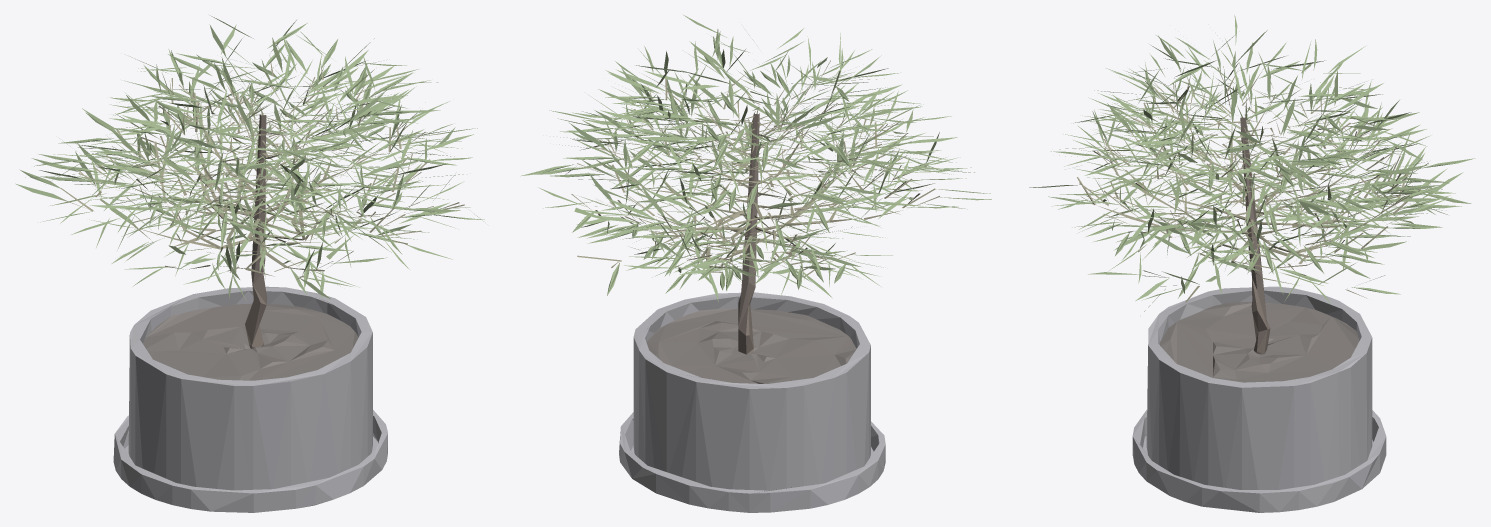
The model's file is sh-bs0-decorative-plant.glb.
The picture shows the model from 3 angles, left to right: view 1: azimuth 30°, elevation 25°; view 2: azimuth 150°, elevation 25°; view 3: azimuth 270°, elevation 25°; orthographic projection. The views are drawn at different scales.
Parts seen in each view (by area): view 1: leaves, Pot_Untitled.003, Ground_Untitled.004, tree_Mesh; view 2: leaves, Pot_Untitled.003, tree_Mesh, Ground_Untitled.004; view 3: leaves, Pot_Untitled.003, Ground_Untitled.004, tree_Mesh.
Boxes of the visible parts, x1=… form: leaves: x1=15, y1=15, x2=484, y2=300; Pot_Untitled.003: x1=113, y1=286, x2=387, y2=512; Ground_Untitled.004: x1=143, y1=303, x2=358, y2=380; tree_Mesh: x1=58, y1=55, x2=464, y2=348; leaves: x1=520, y1=15, x2=991, y2=301; Pot_Untitled.003: x1=619, y1=292, x2=885, y2=512; tree_Mesh: x1=571, y1=60, x2=939, y2=354; Ground_Untitled.004: x1=646, y1=308, x2=856, y2=383; leaves: x1=1029, y1=15, x2=1475, y2=311; Pot_Untitled.003: x1=1132, y1=286, x2=1386, y2=512; Ground_Untitled.004: x1=1160, y1=302, x2=1359, y2=382; tree_Mesh: x1=1077, y1=67, x2=1428, y2=354.
Size of the model in its own units: 1 by 0.9717 by 1.
